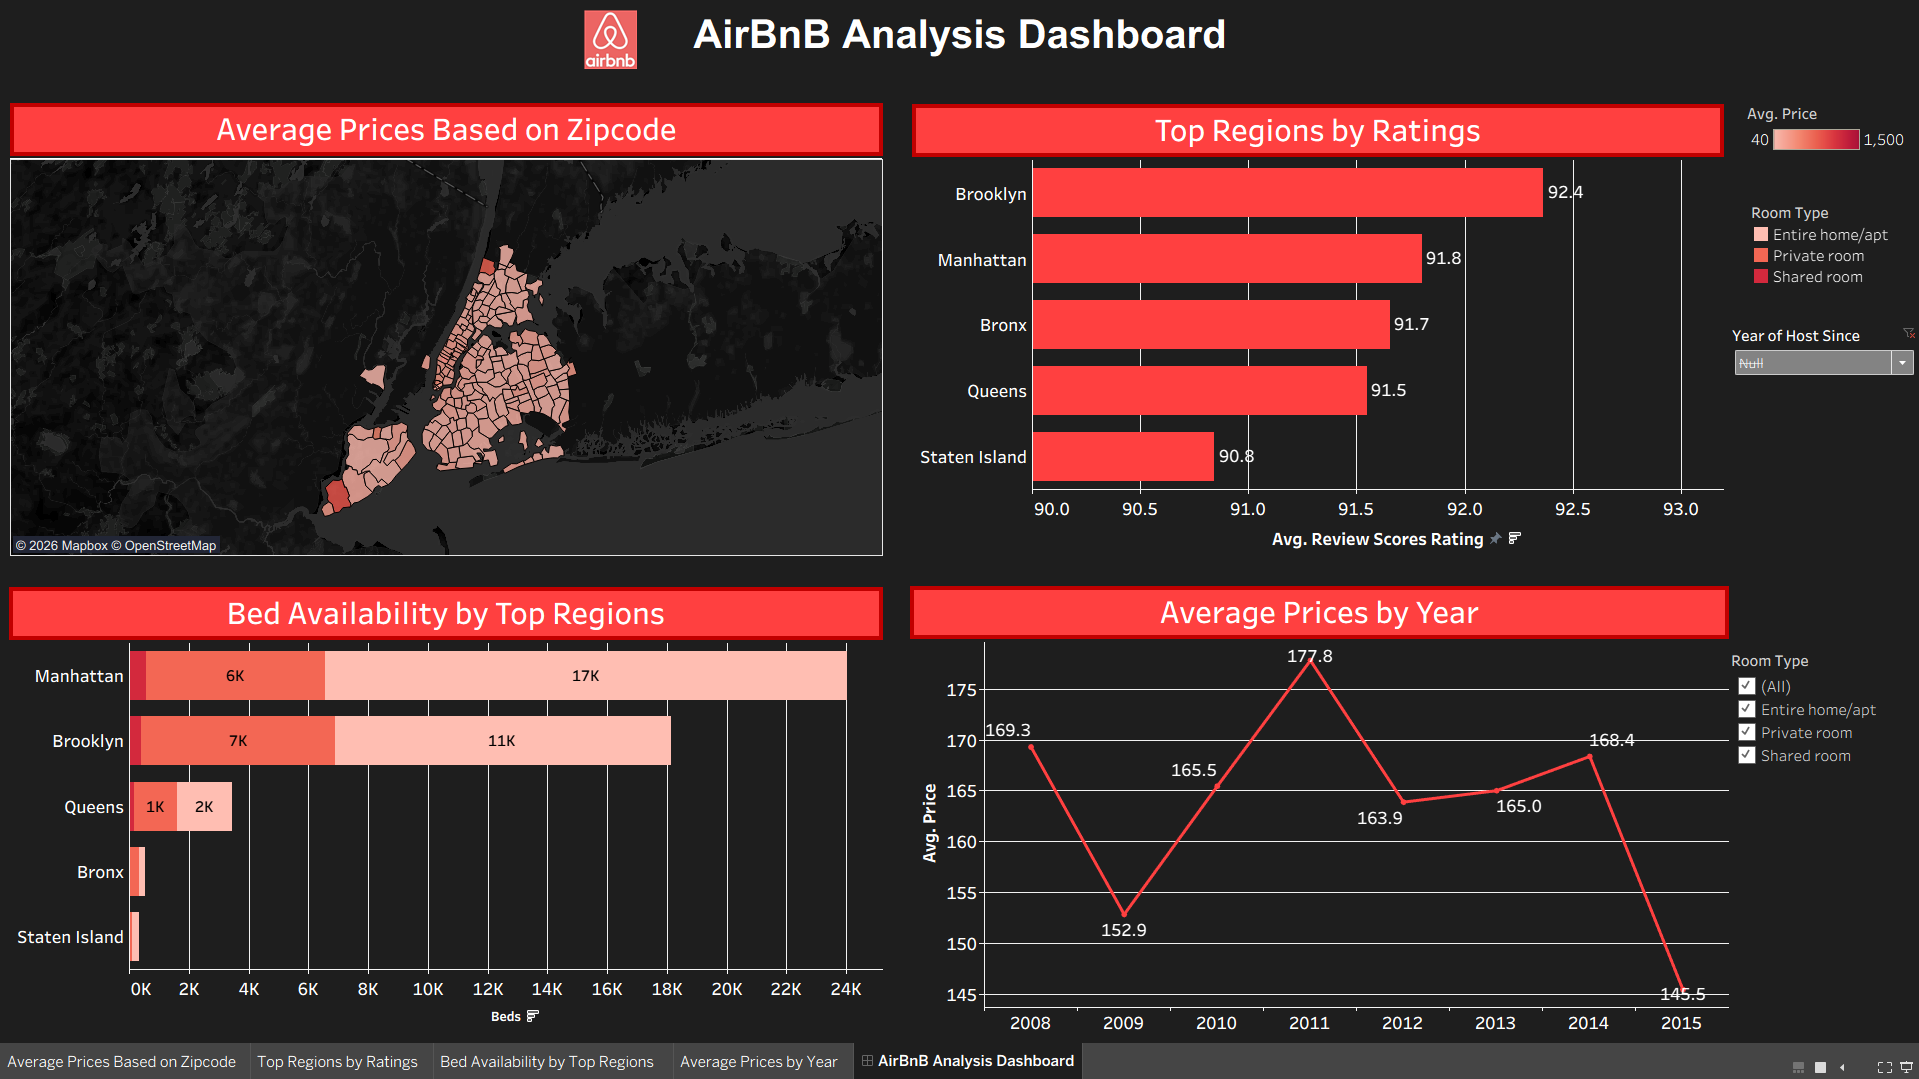

The page's visual inventory and layout, read from the dashboard file:
{"tool":"tableau","page":{"name":"AirBnB Analysis Dashboard","canvas":[1000,1000],"units":"permille","ordinal":0},"visuals":[{"type":"title","box":[4.8,9.4,990.3,62.3]},{"type":"image","param":"Image/Screenshot 2026-07-24 205331.png","box":[304.2,9.4,27.8,62.3]},{"type":"worksheet","title":"Average Prices Based on Zipcode","mark":"Multipolygon","box":[5.4,98.7,454.4,434.8]},{"type":"legend","title":"Average Prices Based on Zipcode","param":"[federated.0dnrxkf0495pkh14aonmc0evvoqv].[avg:Price:qk]","box":[910.1,98.7,84.5,103.4]},{"type":"worksheet","title":"Top Regions by Ratings","mark":"Automatic","rows":["Neighbourhood"],"cols":["Review Scores Rating"],"box":[474.9,99.9,423.1,434.8]},{"type":"legend","title":"Bed Availability by Top Regions","param":"[federated.0dnrxkf0495pkh14aonmc0evvoqv].[none:Room Type:nk]","box":[911.9,193.9,86.3,99.9]},{"type":"filter","title":"Average Prices by Year","param":"[federated.0dnrxkf0495pkh14aonmc0evvoqv].[yr:Host Since:ok]","box":[902.2,311.4,96.6,303.2]},{"type":"worksheet","title":"Average Prices by Year","mark":"Line","rows":["Price"],"cols":["Host Since"],"box":[473.8,561.7,426.7,430.1]},{"type":"worksheet","title":"Bed Availability by Top Regions","mark":"Automatic","rows":["Neighbourhood"],"cols":["Beds"],"box":[4.8,562.9,455,426.6]},{"type":"filter","title":"Bed Availability by Top Regions","param":"[federated.0dnrxkf0495pkh14aonmc0evvoqv].[none:Room Type:nk]","box":[901.6,622.8,96.6,141]}]}

Visuals, with their boxes on the dashboard's canvas, which has no fixed pixel size, in thousandths of its width and height (x1, y1, x2, y2). These are canvas units, not pixel positions in the 1919x1079 screenshot, which may show the page scaled, cropped or inside an application window:
title: bbox=[5, 9, 995, 72]
image: bbox=[304, 9, 332, 72]
"Average Prices Based on Zipcode" worksheet (Multipolygon marks): bbox=[5, 99, 460, 534]
"Average Prices Based on Zipcode" legend: bbox=[910, 99, 995, 202]
"Top Regions by Ratings" worksheet: bbox=[475, 100, 898, 535]
"Bed Availability by Top Regions" legend: bbox=[912, 194, 998, 294]
"Average Prices by Year" filter: bbox=[902, 311, 999, 615]
"Average Prices by Year" worksheet (Line marks): bbox=[474, 562, 900, 992]
"Bed Availability by Top Regions" worksheet: bbox=[5, 563, 460, 990]
"Bed Availability by Top Regions" filter: bbox=[902, 623, 998, 764]
